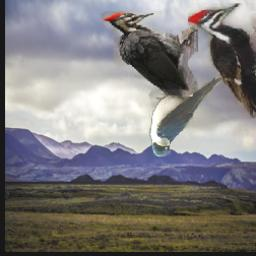Swallow: (150, 75, 225, 157)
Woodpecker: (103, 12, 199, 117), (189, 3, 256, 119)
